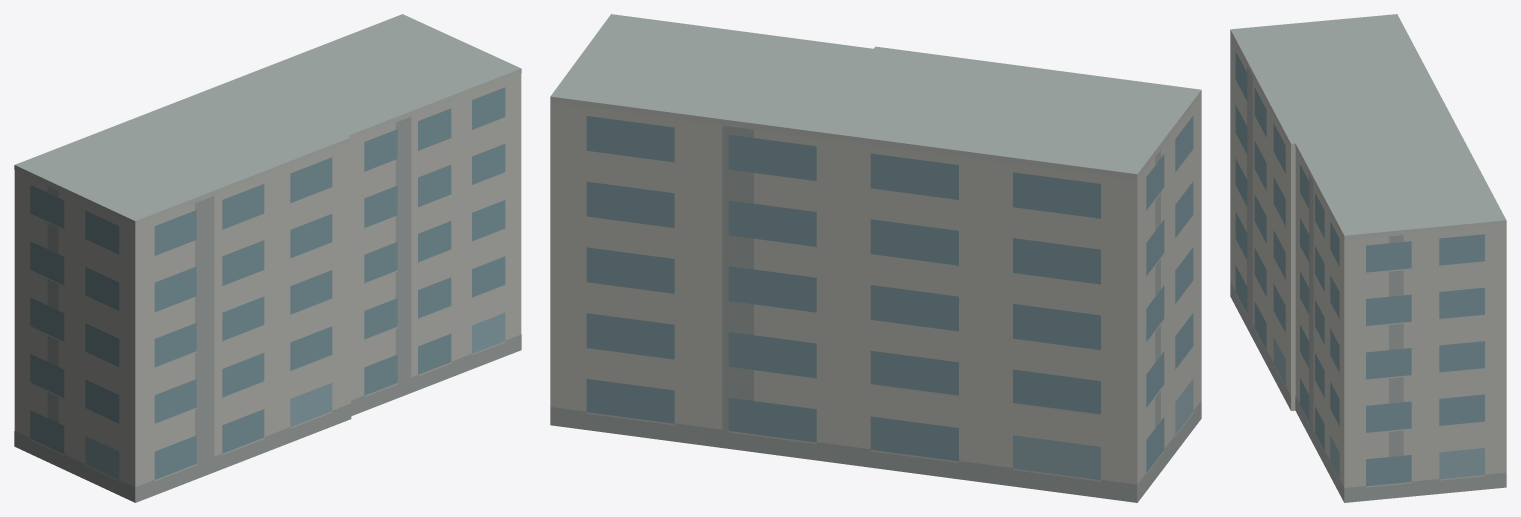
Rendered from survey-upis-32491230.glb.
3 renders of one model, left to right at view 1: azimuth 30°, elevation 25°; view 2: azimuth 150°, elevation 25°; view 3: azimuth 270°, elevation 25°, orthographic. The views are drawn at different scales.
Visible parts, largest first — view 1: survey-upis-32491230.tmp; view 2: survey-upis-32491230.tmp; view 3: survey-upis-32491230.tmp.
Part boxes in pixels (box(x1,y1,x2,y2)): survey-upis-32491230.tmp: box(14, 14, 521, 502); survey-upis-32491230.tmp: box(550, 14, 1201, 502); survey-upis-32491230.tmp: box(1230, 14, 1506, 502).
Size of the model in its own units: 23.14 by 13 by 12.19.
